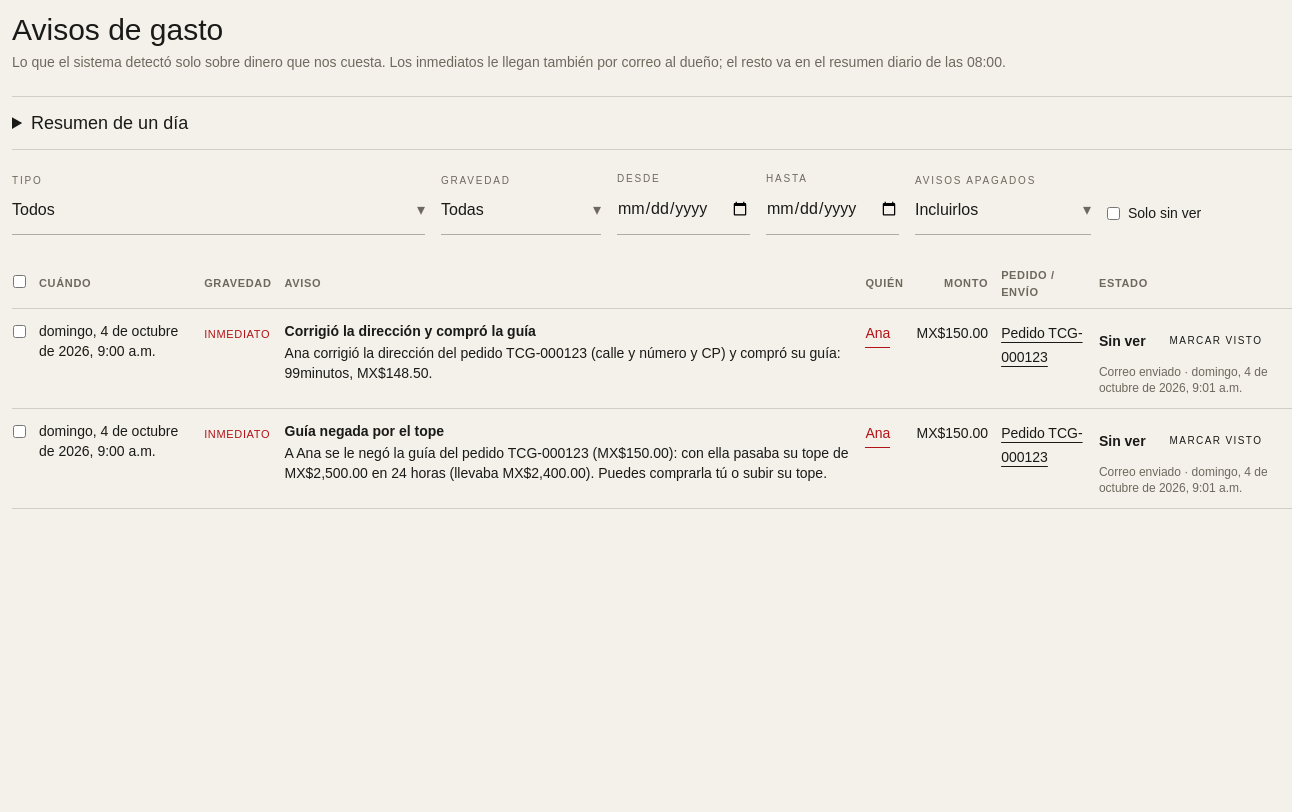
Test: UX-GAS-2 · filtros en la URL, «Marcar como vistos», ⛔ sin borrar ni «no visto» › «Marcar como vistos (2)» manda `{ids:[a,b]}` y las dos filas SIGUEN con «Visto por…»; cero «Borrar» / «no visto»
Expected: the table with test id "spend-alerts-table" is shown, [12, 259, 1291, 509]
Click the checkbox named "Seleccionar aviso AG-1".
click(20, 332)  # box [13, 325, 26, 338]
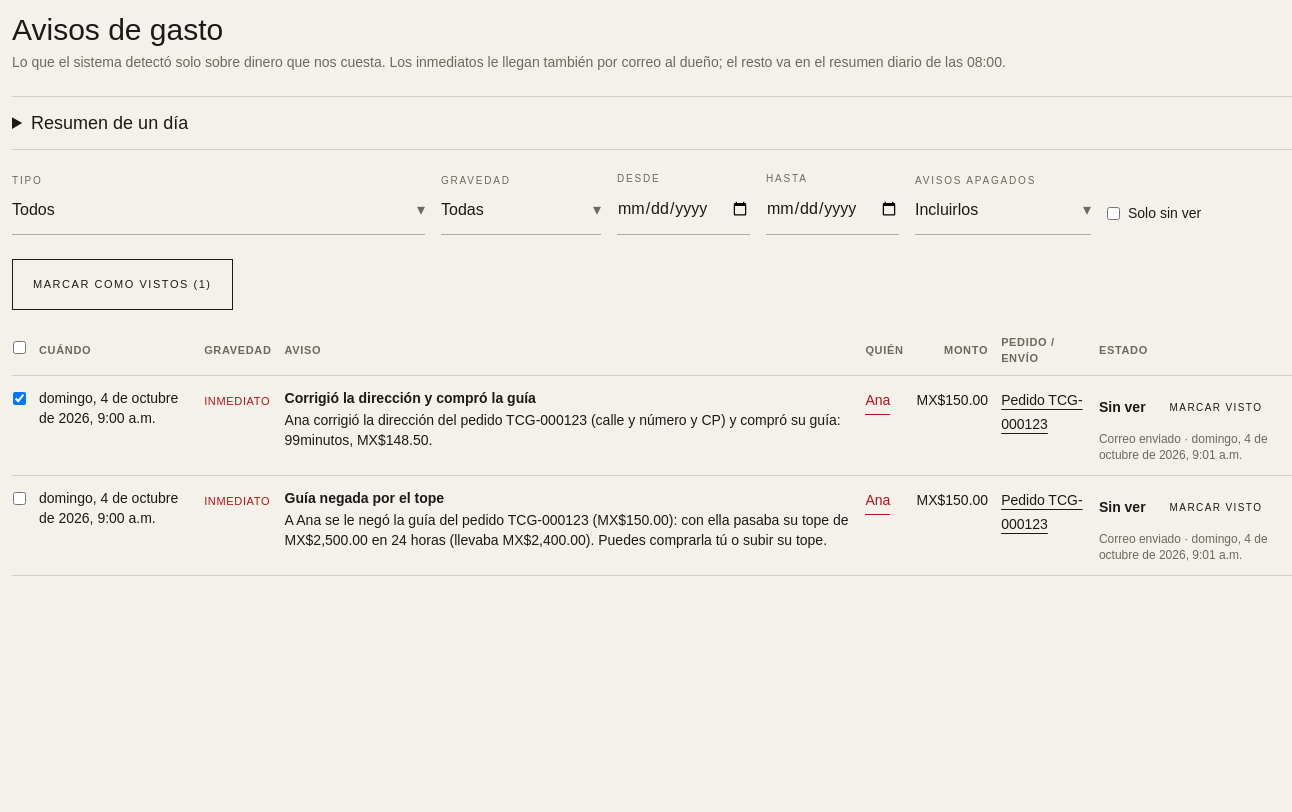
Click the checkbox named "Seleccionar aviso AG-3".
click(20, 498)  # box [13, 492, 26, 504]
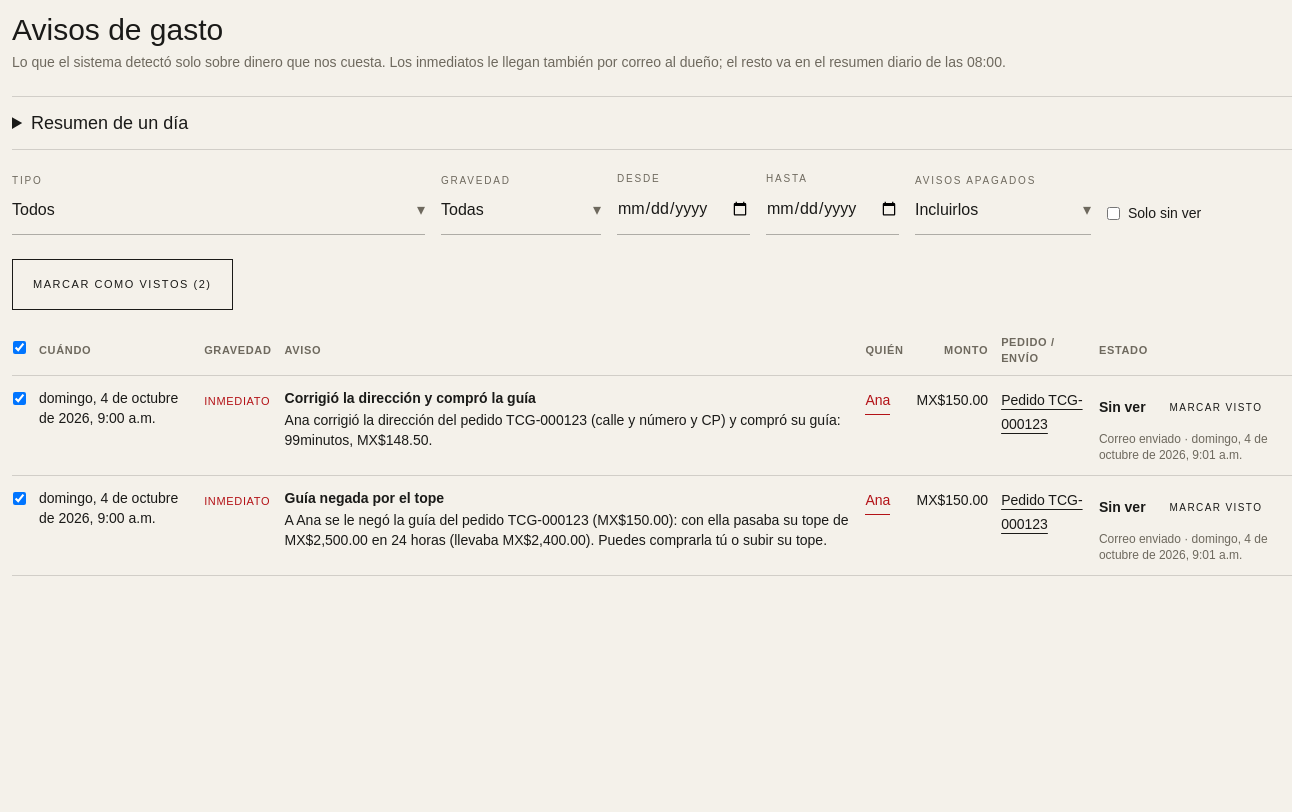
Click the button "Marcar como vistos (2)".
click(122, 284)  # box [12, 259, 232, 310]
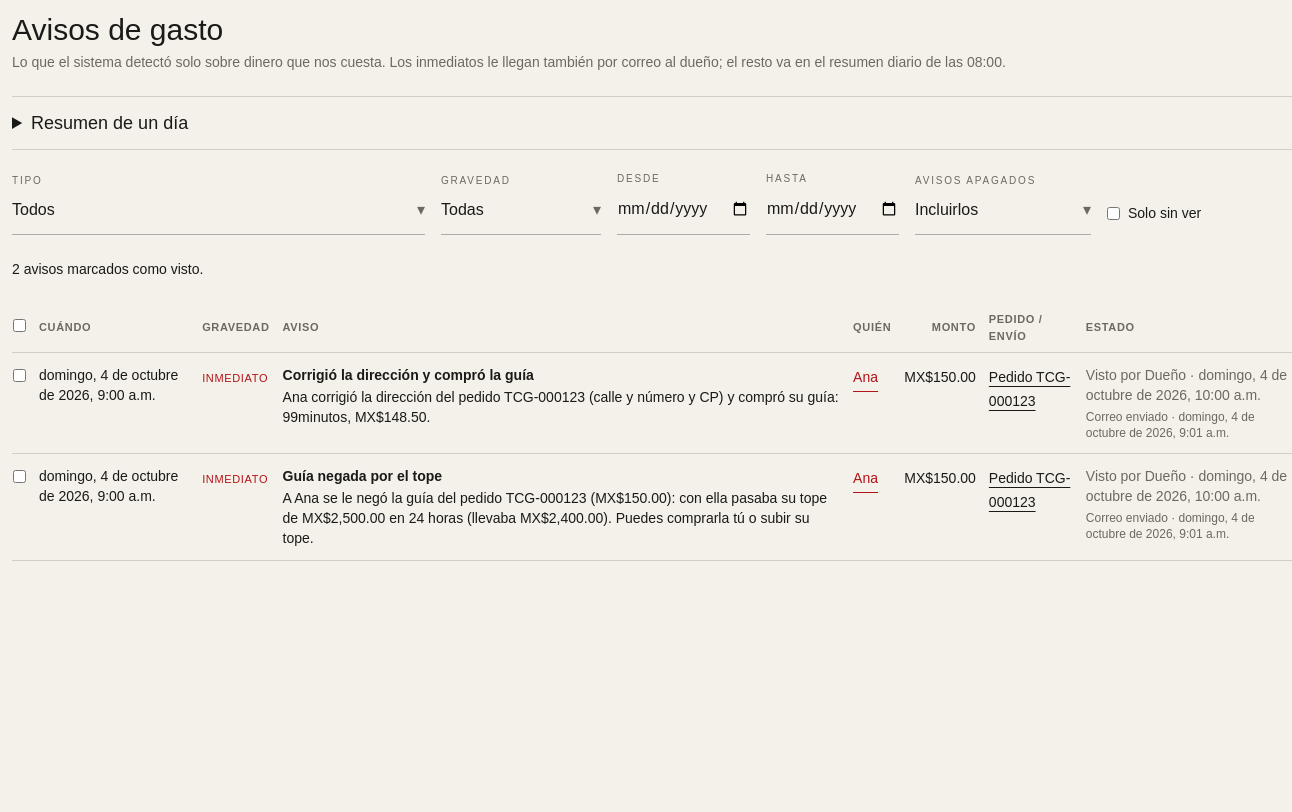
Expected: the text "2 avisos marcados como visto." is shown, [12, 261, 203, 277]
